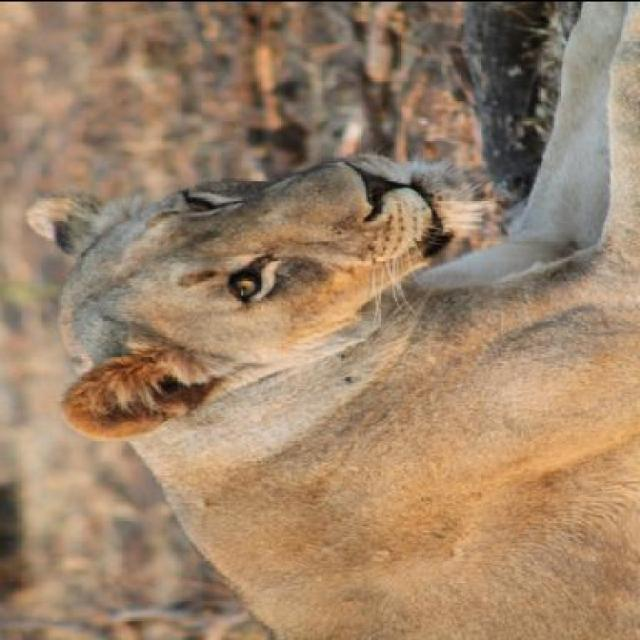Lion: (26, 5, 639, 629)
